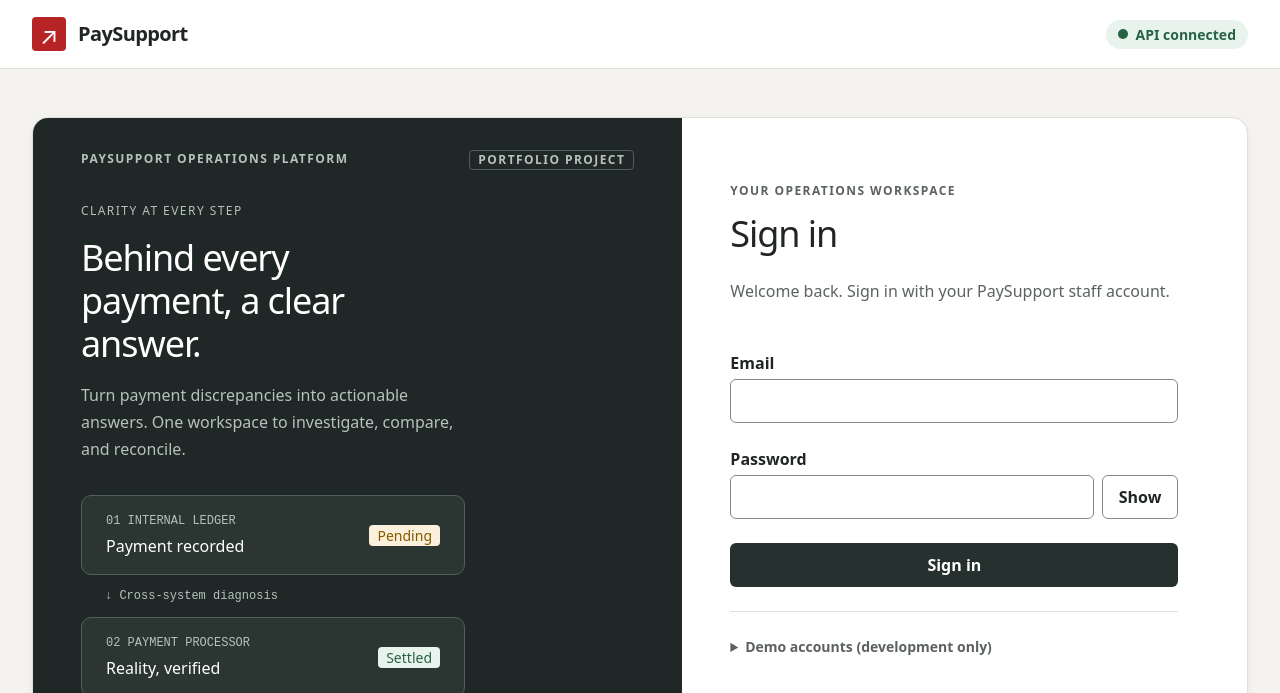
Test: workspace › checks the lookup form, then opens the diagnosis
The image size is (1280, 693).
In the field labelled "Email": (954, 401) [730, 379, 1178, 423], type "engineer@paysupport.test"
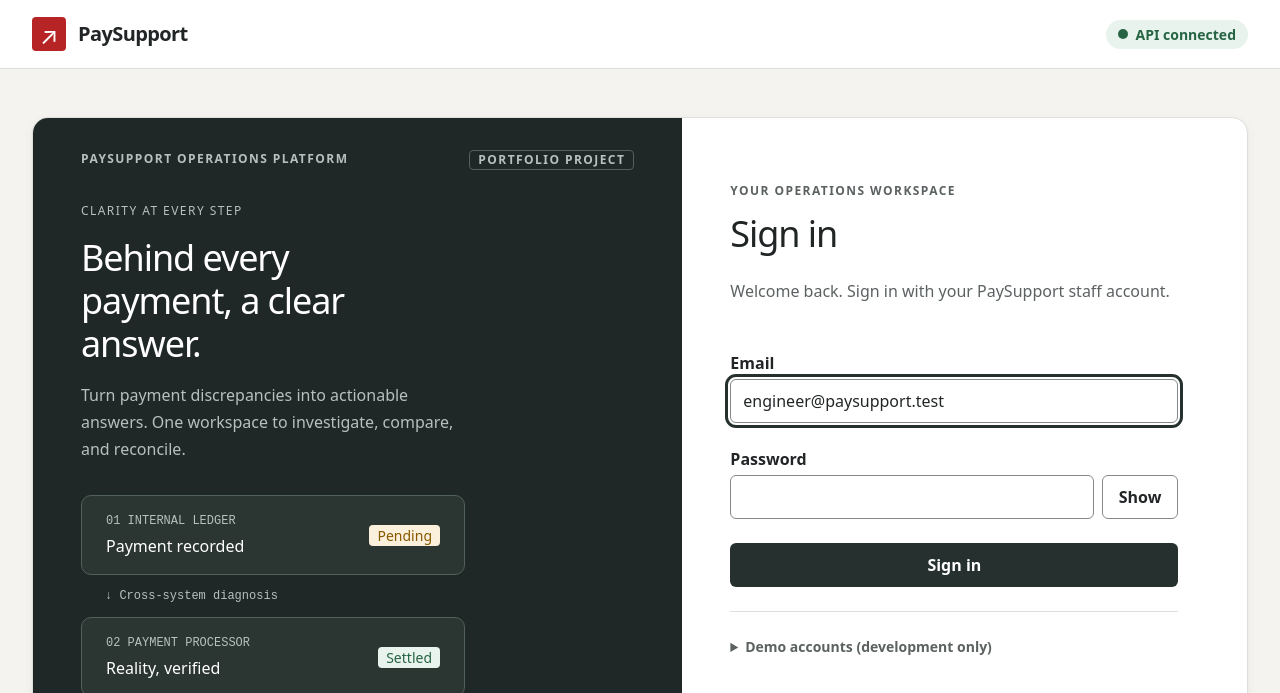
In the password field labelled "Password": (912, 497) [730, 475, 1094, 519], type "test-password"
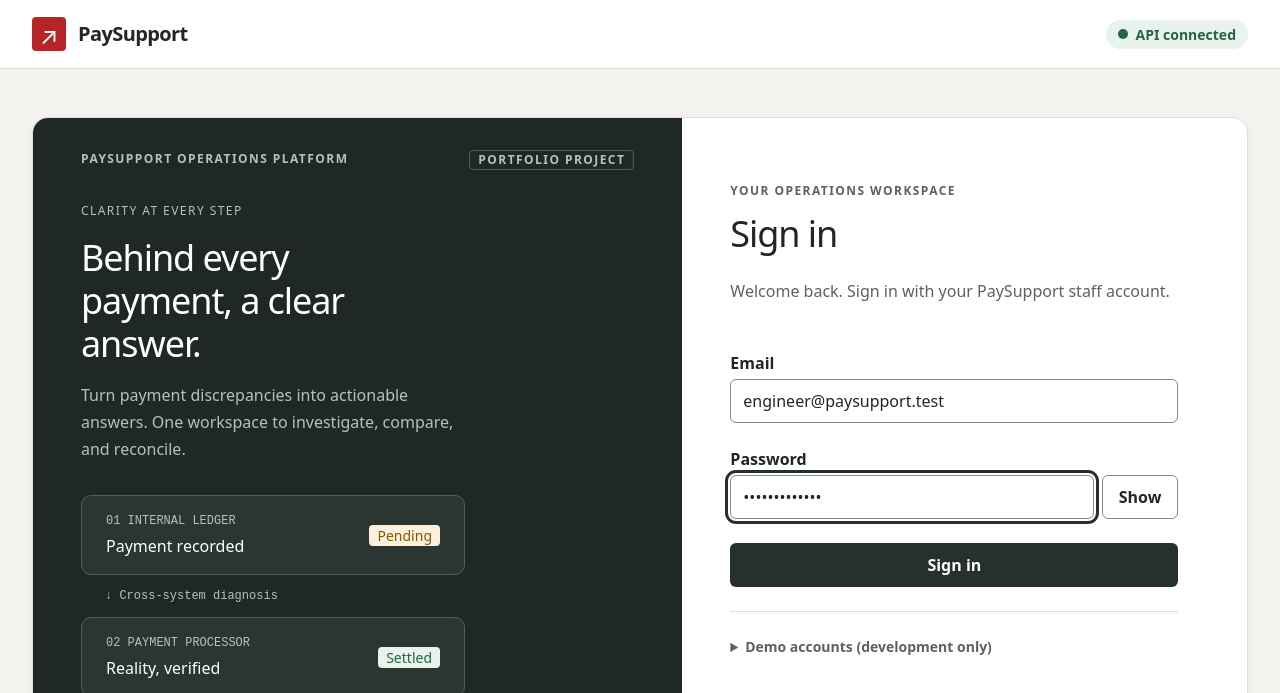
Click the button "Sign in": (954, 565) [730, 543, 1178, 587]
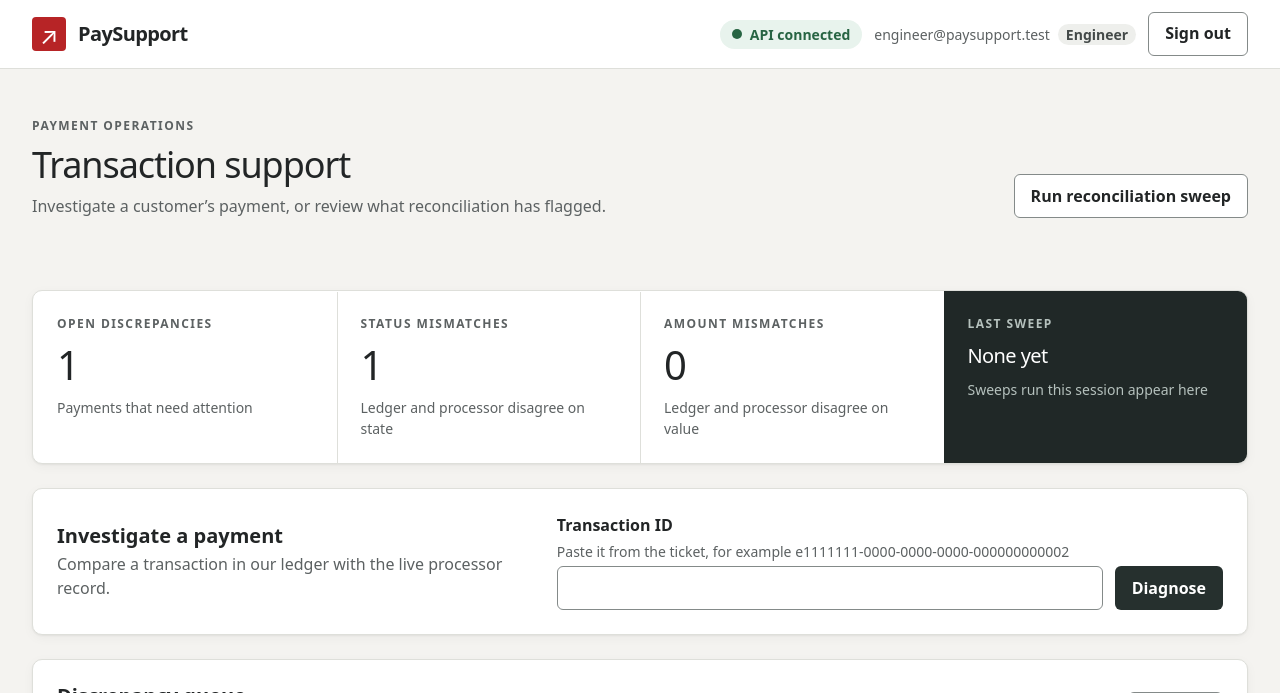
Now the button "Sign out" is shown, box [1148, 12, 1248, 56]
Now the heading "Transaction support" is shown, box [32, 140, 350, 189]
Click the button "Diagnose": (1169, 588) [1115, 566, 1223, 610]
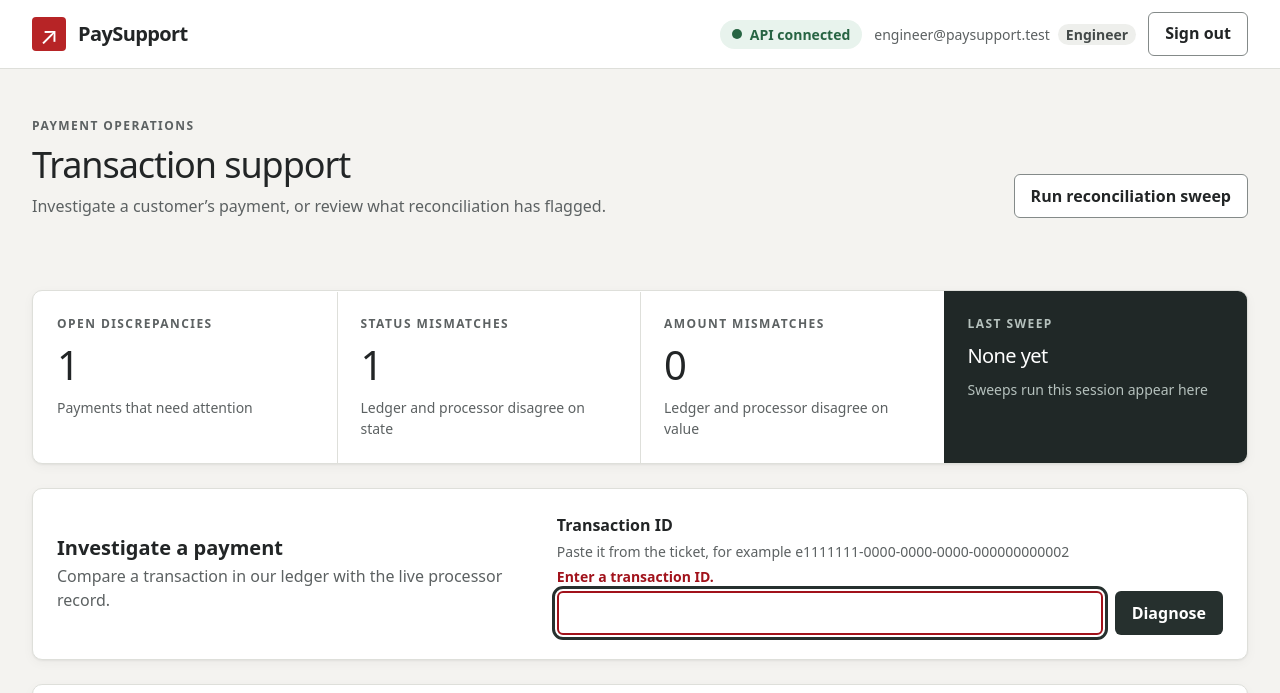
In the field labelled "Transaction ID": (830, 613) [557, 591, 1103, 635], type "e1111111-0000-0000-0000-000000000001"
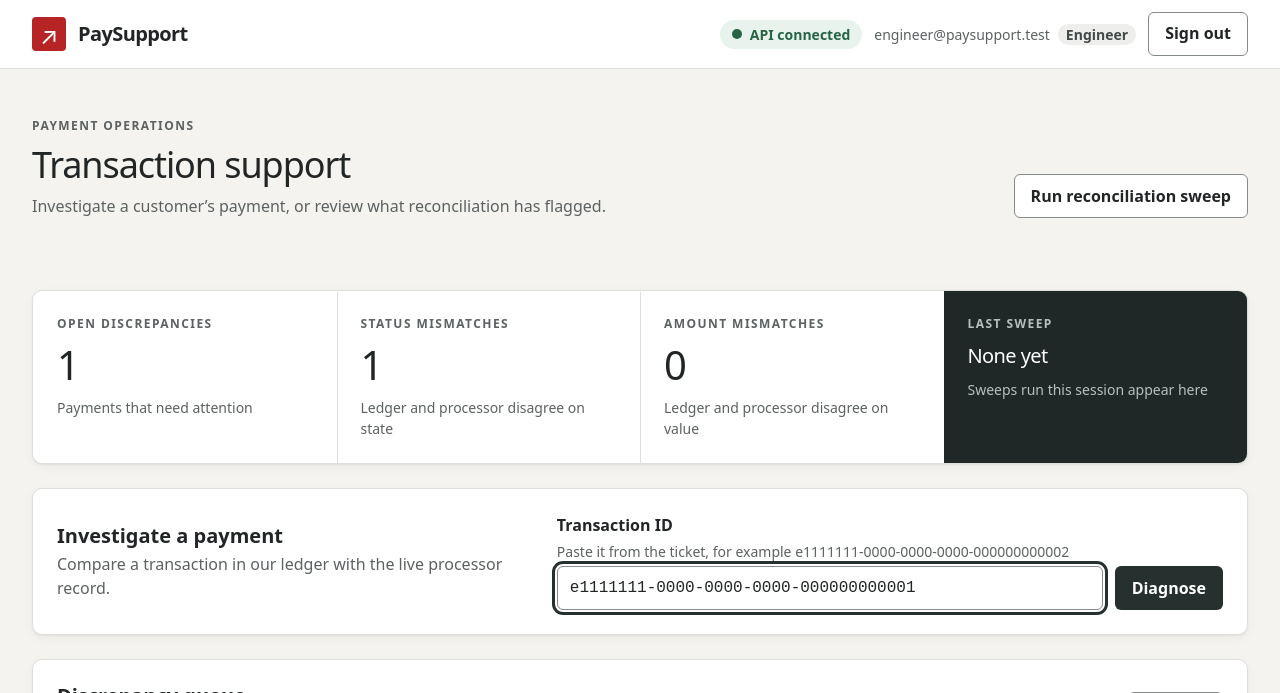
Click the button "Diagnose": (1169, 588) [1115, 566, 1223, 610]
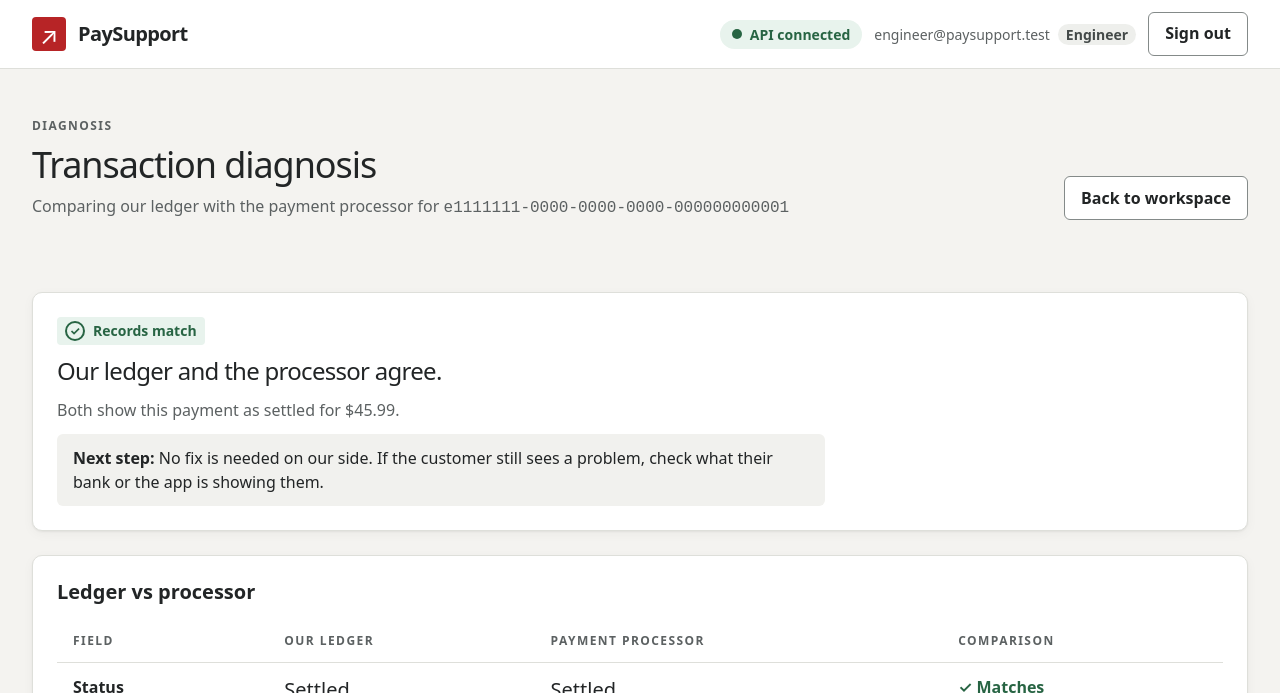
Now the text "Records match" is shown, box [93, 321, 197, 340]
